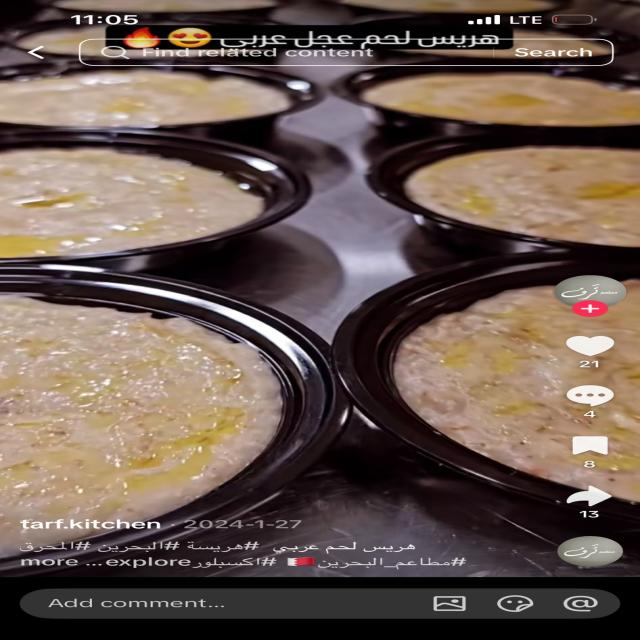Harees: (7, 59, 640, 548)
